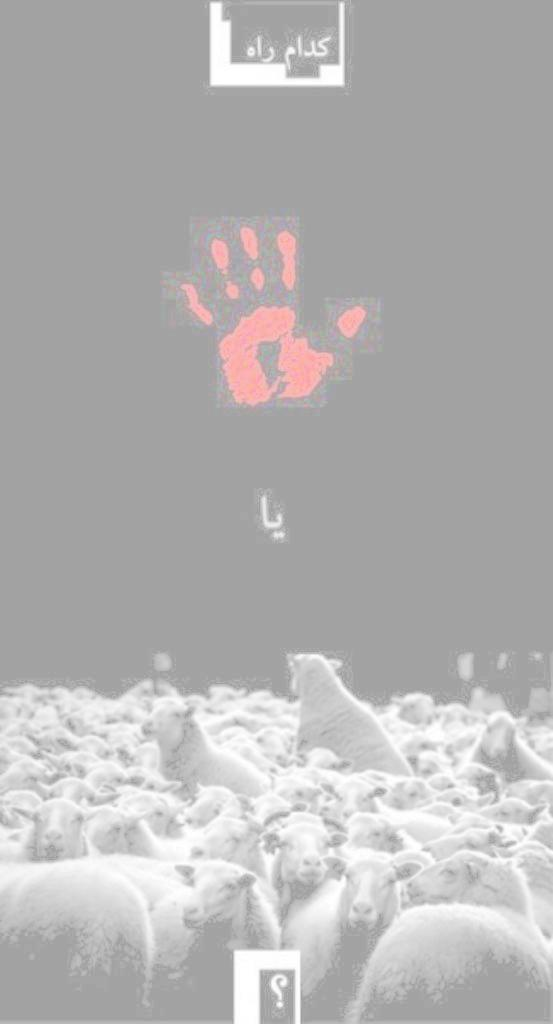Sheep: (389, 845, 553, 1024), (118, 857, 280, 1016), (278, 639, 409, 781), (134, 687, 264, 801), (258, 815, 346, 925), (333, 854, 425, 942), (469, 707, 553, 786), (6, 796, 93, 872), (326, 803, 411, 855), (384, 687, 442, 727)
